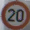20 km speed: (1, 1, 29, 30)
